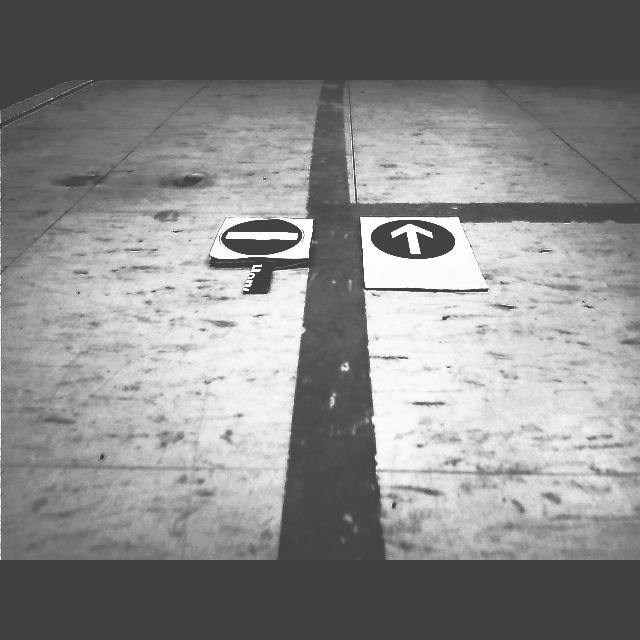GO FORWARD: (372, 219, 455, 259)
NO ENTRY: (222, 220, 303, 255)
